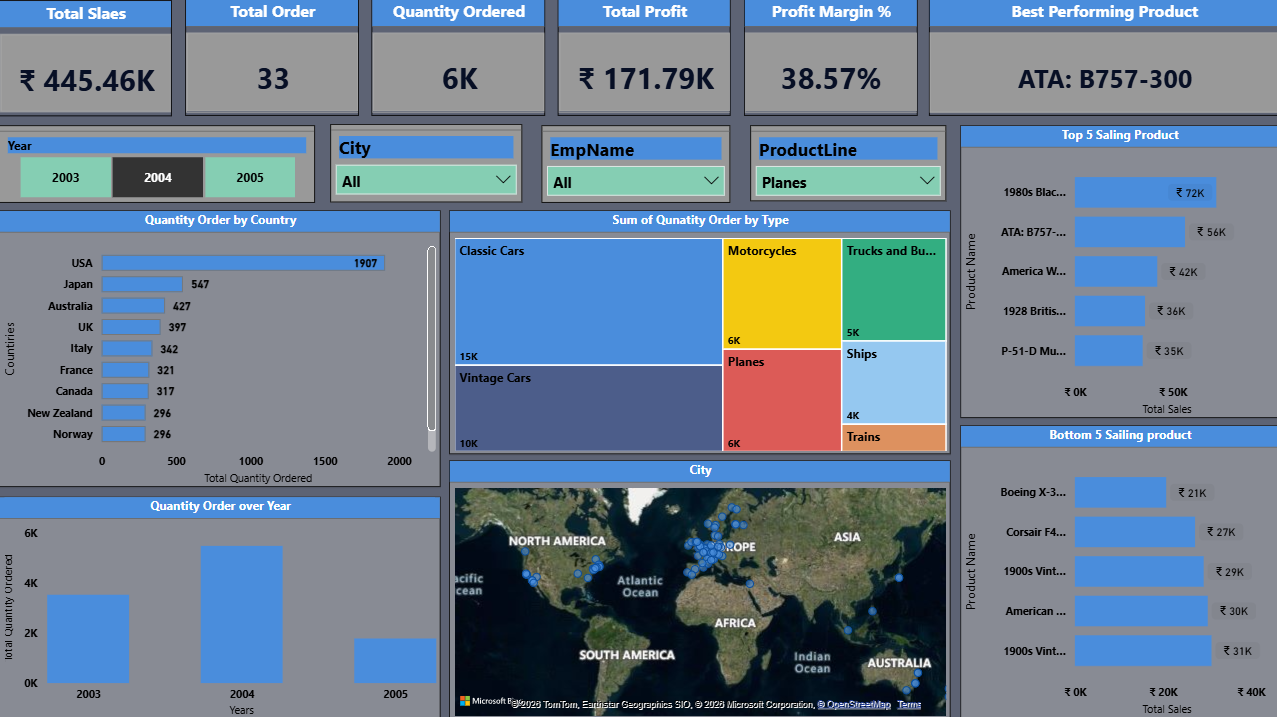

What the dashboard file says about the page in this screenshot:
{"tool":"powerbi","page":{"name":"Main Dashboard","canvas":[1280,720],"ordinal":0},"visuals":[{"type":"cardVisual","title":"Quantity Ordered","fields":{"Data":["Sum(order details.quantityOrdered)"]},"box":[372.2,0,173.6,116.7],"z":0},{"type":"barChart","title":"Top 5 Saling Product","fields":{"Category":["products.productName"],"Y":["Sum(order details.Sales)"]},"box":[960.9,126.4,318.4,293.1],"z":1000},{"type":"barChart","title":"Quantity Order by Country","fields":{"Y":["Sum(order details.quantityOrdered)"],"Category":["customers.country"]},"box":[0,211.5,441.4,277],"z":2000},{"type":"slicer","fields":{"Values":["orders.year"]},"box":[0,125.8,316.1,77.2],"z":3000},{"type":"cardVisual","title":"Total Profit","fields":{"Data":["Sum(order details.profit)"]},"box":[558.3,0,173,116.7],"z":4000},{"type":"cardVisual","title":"Total Slaes","fields":{"Data":["Sum(order details.Sales)"]},"box":[0,1.2,172.5,116.2],"z":5000},{"type":"treemap","title":"Sum of Qunatity Order by Type","fields":{"Group":["products.productLine"],"Values":["Sum(order details.quantityOrdered)"]},"box":[450,211.4,501.4,244.3],"z":6000},{"type":"cardVisual","title":"Profit Margin %","fields":{"Data":["order details.Profit Margin %"]},"box":[744.4,0,173.6,116.7],"z":7000},{"type":"slicer","fields":{"Values":["customers.city"]},"box":[331.8,124.6,191.8,78.4],"z":8000},{"type":"slicer","fields":{"Values":["customers.FullName"]},"box":[543.1,126.1,188.9,77.8],"z":9000},{"type":"slicer","fields":{"Values":["products.productLine"]},"box":[751.4,126.1,195.8,76.4],"z":10000},{"type":"clusteredColumnChart","title":"Quantity Order over Year","fields":{"Category":["orders.year"],"Y":["Sum(order details.quantityOrdered)"]},"box":[0,497.1,441.6,223.2],"z":11000},{"type":"barChart","title":"Bottom 5 Sailing product","fields":{"Category":["products.productName"],"Y":["Sum(order details.Sales)"]},"box":[960.9,426.4,318.4,293.1],"z":12000},{"type":"cardVisual","title":"Best Performing Product","fields":{"Data":["order details.Most Ordered Product"]},"box":[930.2,0,349.9,117],"z":13000},{"type":"cardVisual","title":"Total Order","fields":{"Data":["order details.Total Orders"]},"box":[186.1,0,173.6,116.7],"z":14000},{"type":"map","title":"City","fields":{"Category":["customers.city"]},"box":[450,461.4,501.4,258.6],"z":15000}]}

Visuals, with their boxes in screenshot pixels (x1, y1, x2, y2), scaled from the page's 1280x720 canvas onto the 1277x717 screenshot:
"Quantity Ordered" cardVisual: region(371, 0, 545, 116)
"Top 5 Saling Product" barChart: region(959, 126, 1276, 418)
"Quantity Order by Country" barChart: region(0, 211, 440, 486)
slicer - orders.year: region(0, 125, 315, 202)
"Total Profit" cardVisual: region(557, 0, 730, 116)
"Total Slaes" cardVisual: region(0, 1, 172, 117)
"Sum of Qunatity Order by Type" treemap: region(449, 211, 949, 454)
"Profit Margin %" cardVisual: region(743, 0, 916, 116)
slicer - customers.city: region(331, 124, 522, 202)
slicer - customers.FullName: region(542, 126, 730, 203)
slicer - products.productLine: region(750, 126, 945, 202)
"Quantity Order over Year" clusteredColumnChart: region(0, 495, 441, 716)
"Bottom 5 Sailing product" barChart: region(959, 425, 1276, 716)
"Best Performing Product" cardVisual: region(928, 0, 1276, 117)
"Total Order" cardVisual: region(186, 0, 359, 116)
"City" map: region(449, 459, 949, 716)
